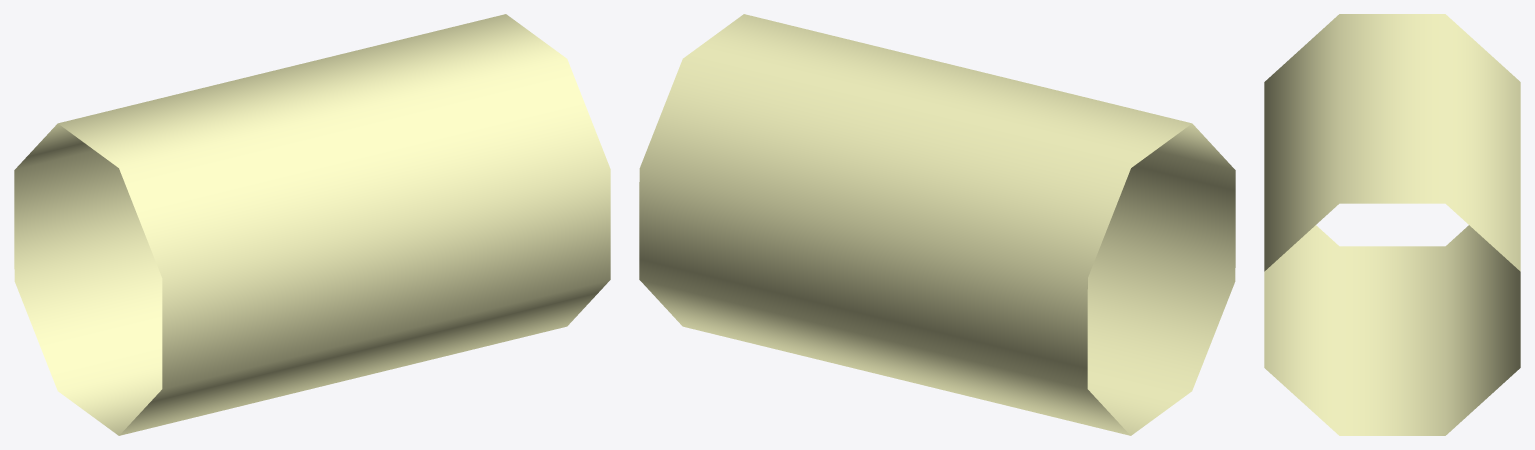
3 views of the same model, side by side, from view 1: azimuth 30°, elevation 25°; view 2: azimuth 150°, elevation 25°; view 3: azimuth 270°, elevation 25° (orthographic). The views are drawn at different scales.
Visible parts, largest first — view 1: Object93; view 2: Object93; view 3: Object93.
Part boxes in pixels (x1=…): Object93: x1=14, y1=14, x2=610, y2=435; Object93: x1=639, y1=14, x2=1235, y2=435; Object93: x1=1264, y1=14, x2=1520, y2=435.
Bounding box in the file's own units: 19988 × 11411 × 11411.
